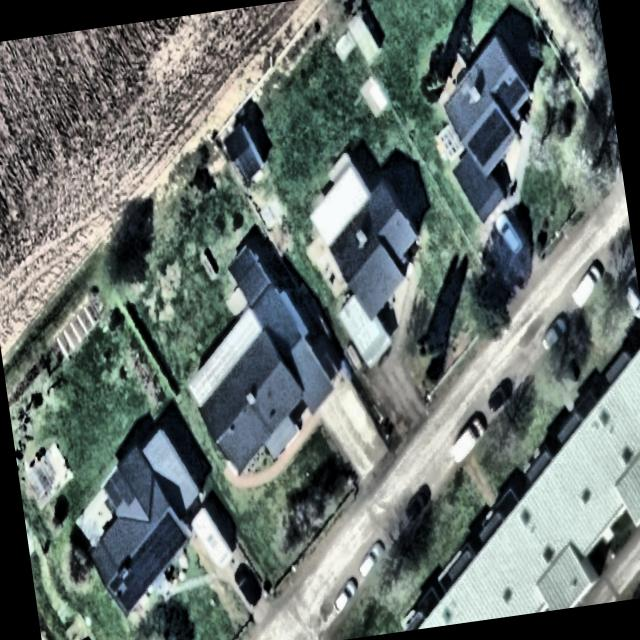roof_pv: (130, 508, 192, 576), (465, 106, 518, 170), (116, 566, 166, 614), (488, 68, 530, 116)
